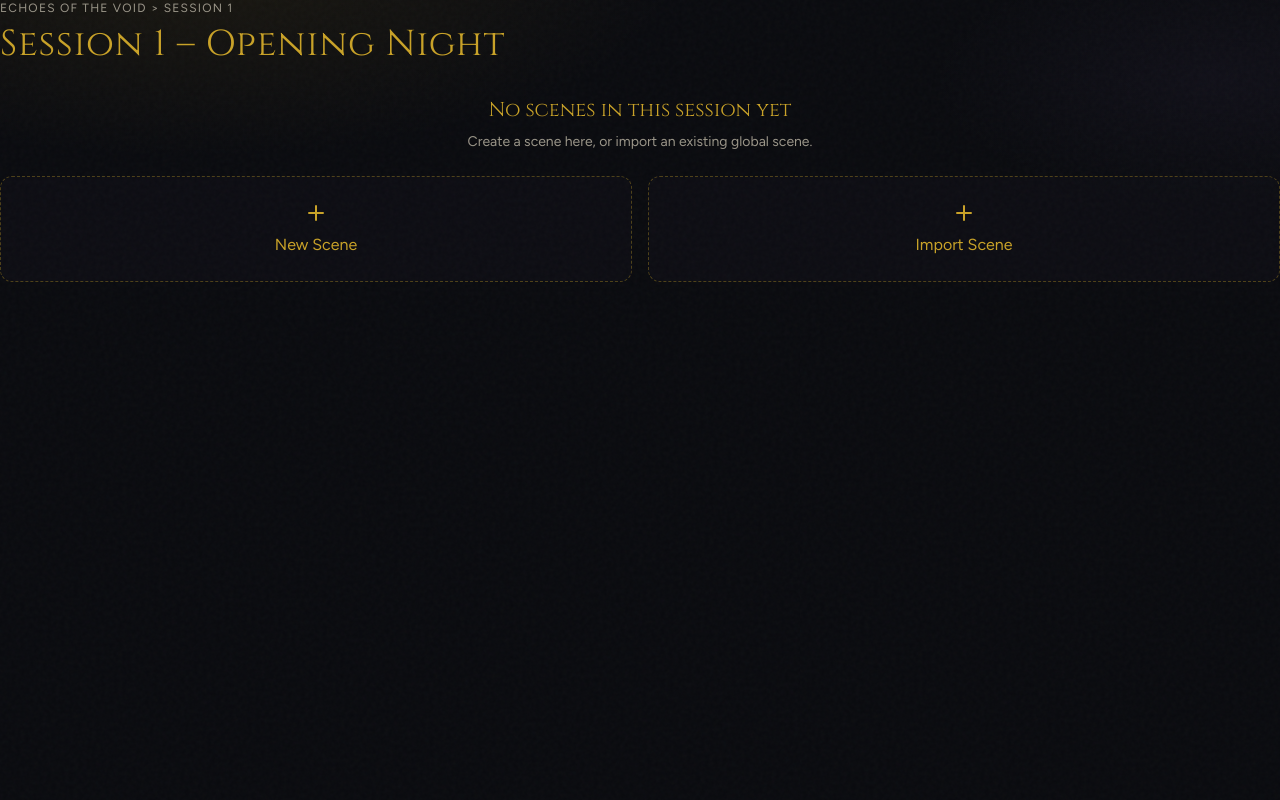
Test case: SessionScenesPage › opens the New Scene create dialog from Session Scenes
This screenshot has width=1280, height=800.
Click the button "New Scene".
click(316, 244)  # box 0,176 -> 632,282
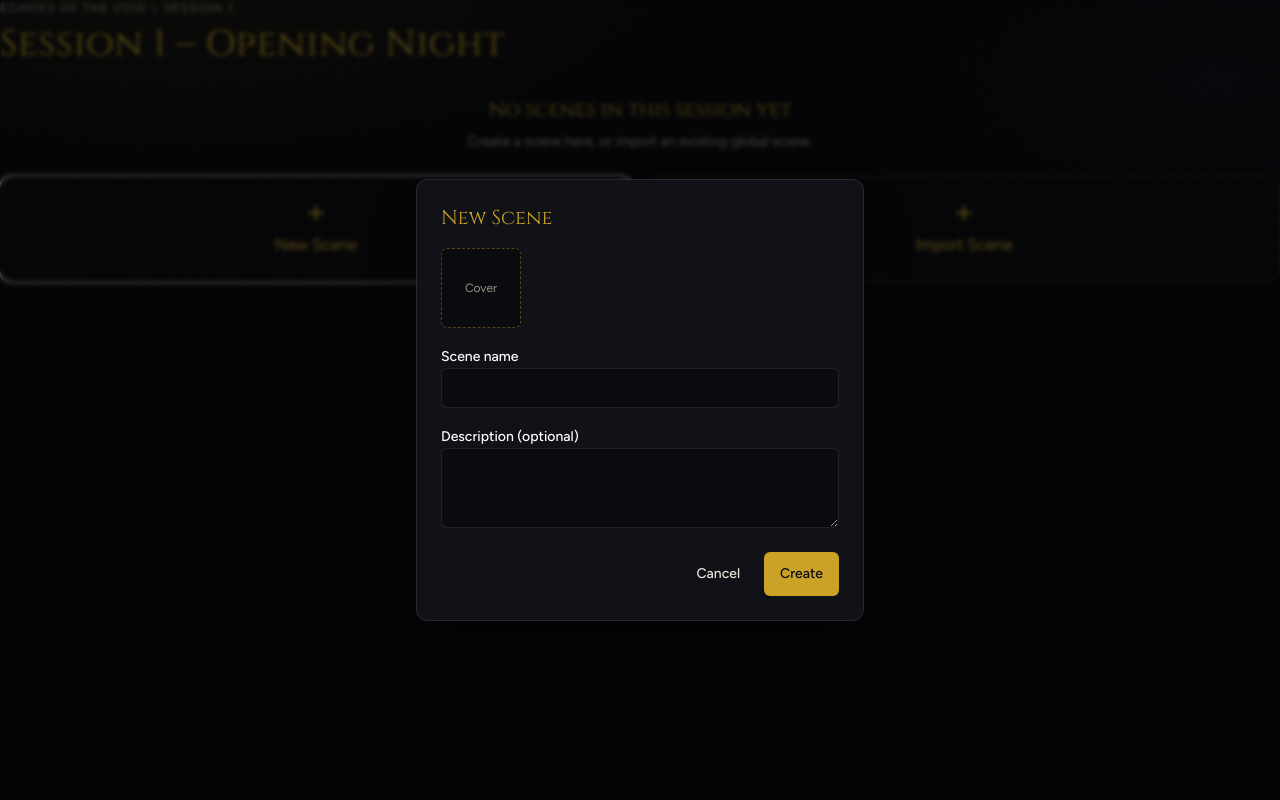
Check: the heading "New Scene" is shown, box 441,204 -> 552,231
Check: the field labelled "Scene name" is shown, box 441,368 -> 839,408
Check: the text box named "Scene description" is shown, box 441,448 -> 839,528
